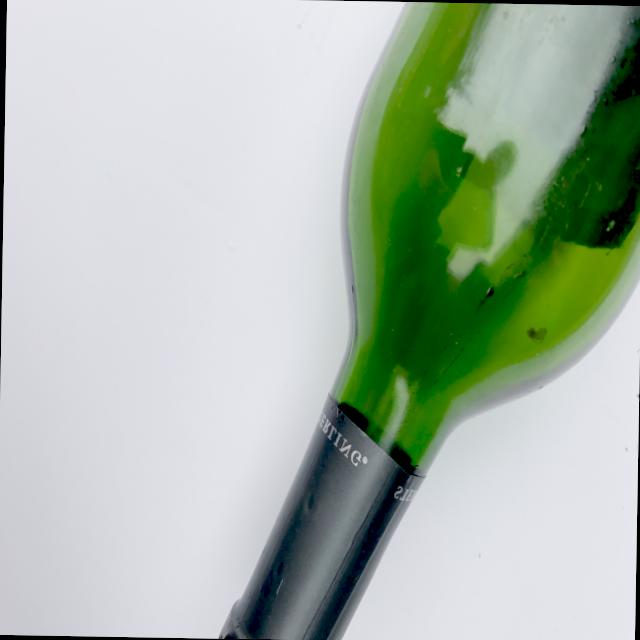Glass: (214, 0, 640, 640)
